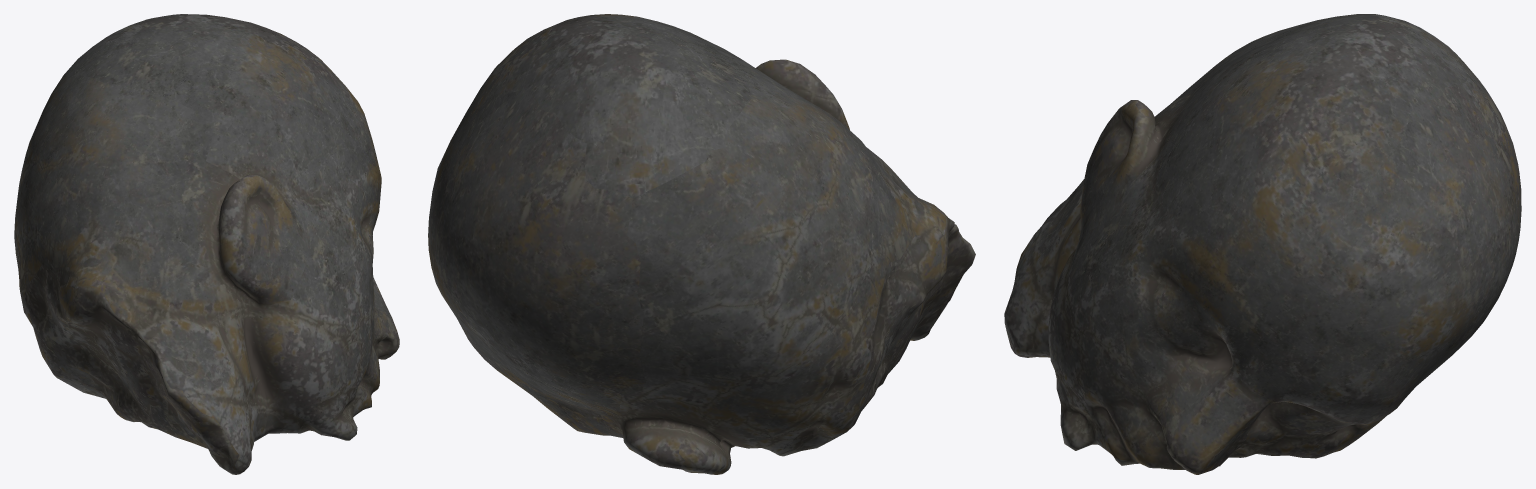
Rendered from head.glb.
The picture shows the model from 3 angles, left to right: view 1: azimuth 30°, elevation 25°; view 2: azimuth 150°, elevation 25°; view 3: azimuth 270°, elevation 25°; orthographic projection. The views are drawn at different scales.
Parts seen in each view (by area): view 1: SM_GiantHead_B.001; view 2: SM_GiantHead_B.001; view 3: SM_GiantHead_B.001.
Boxes of the visible parts, <box> form: SM_GiantHead_B.001: <box>14,14,399,474</box>; SM_GiantHead_B.001: <box>428,14,975,474</box>; SM_GiantHead_B.001: <box>1004,14,1521,474</box>.
Size of the model in its own units: 0.175 by 0.1649 by 0.1961.
1 material, 1 textured.
